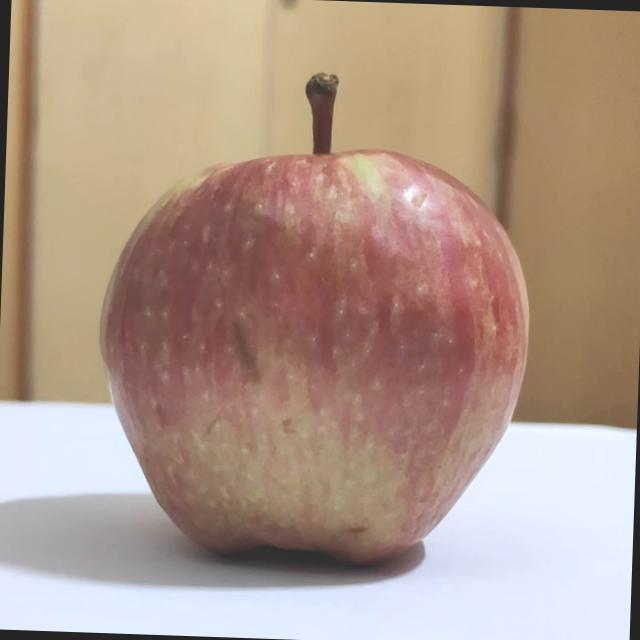apple: (82, 64, 552, 582)
